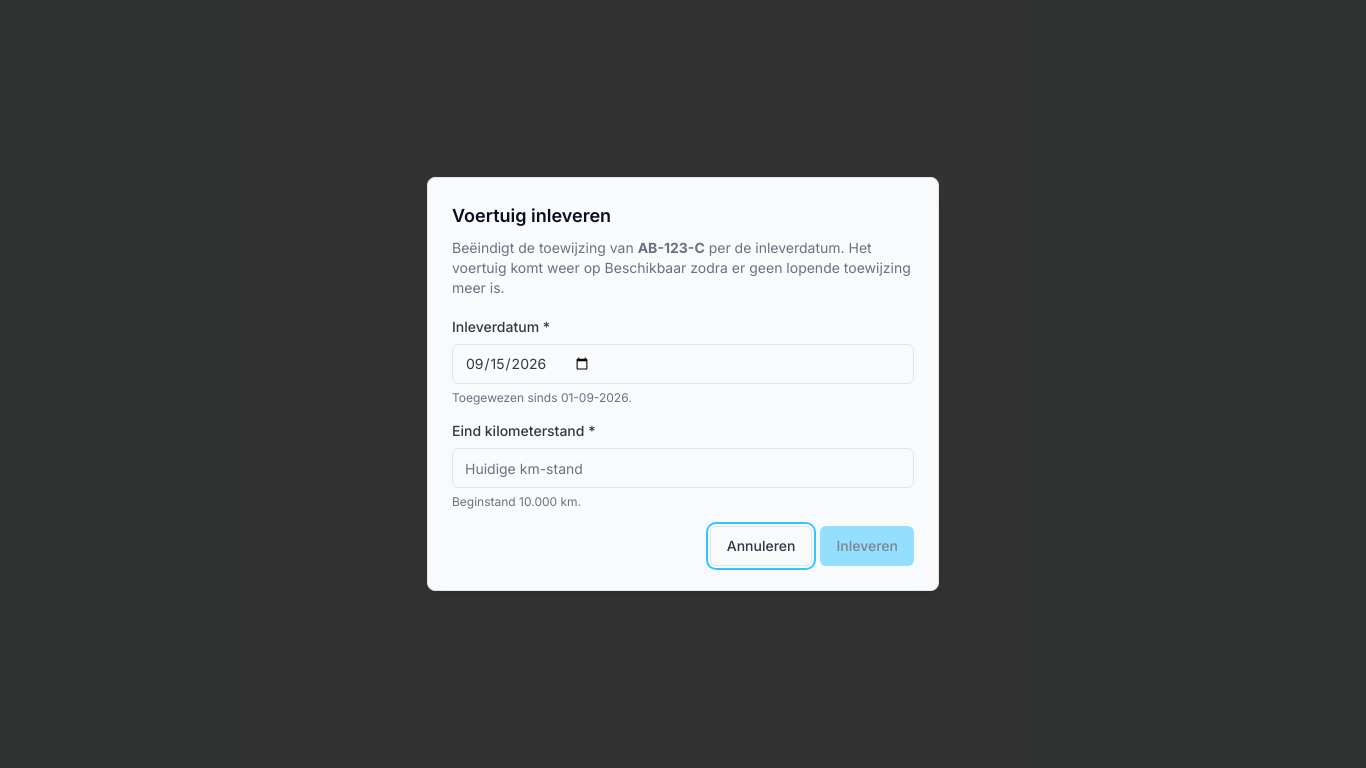
Test: VehicleReturnDialog › blijft geblokkeerd en legt uit waarom bij een eindstand onder de beginstand
The width and height of the screenshot is (1366, 768).
Type "9500" into the number field labelled "Eind kilometerstand *" at [683, 468], box [452, 448, 914, 488]
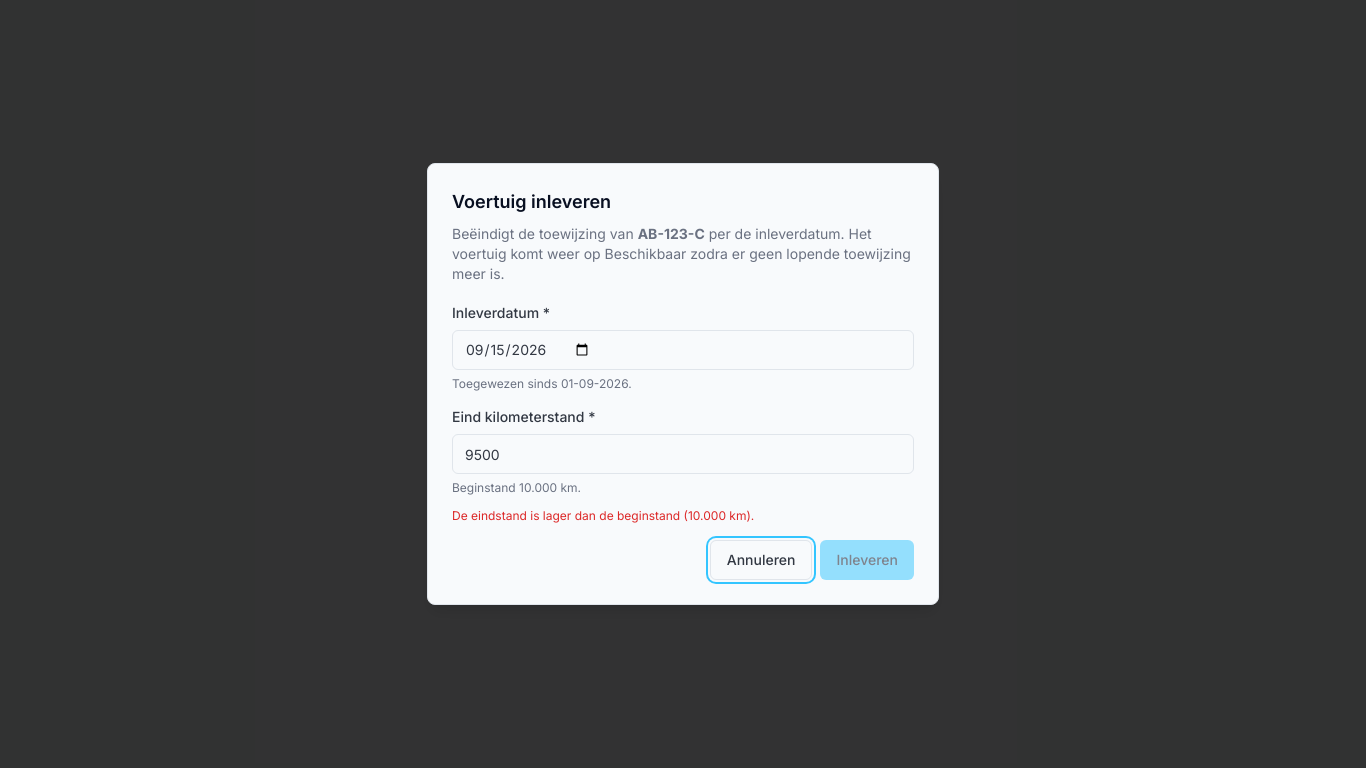
Expected: the button "Inleveren" is disabled, [820, 540, 914, 580]
Expected: the text "De eindstand is lager dan de beginstand (10.000 km)." is shown, [452, 508, 754, 523]
